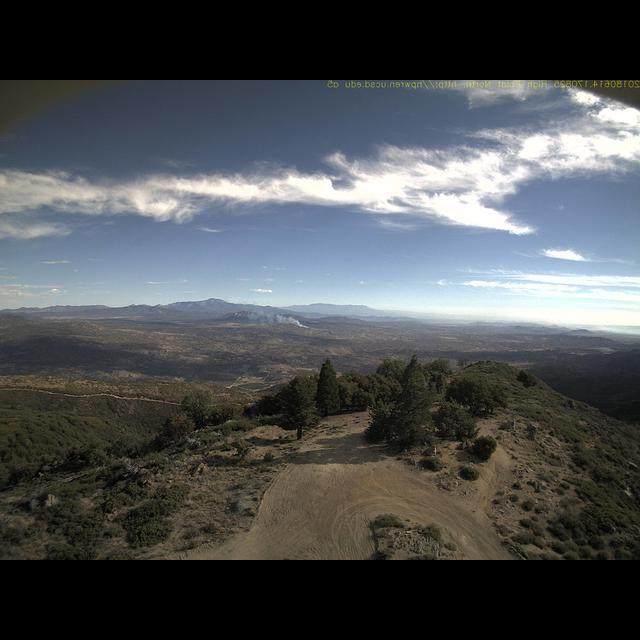Smoke: (232, 303, 315, 330)
